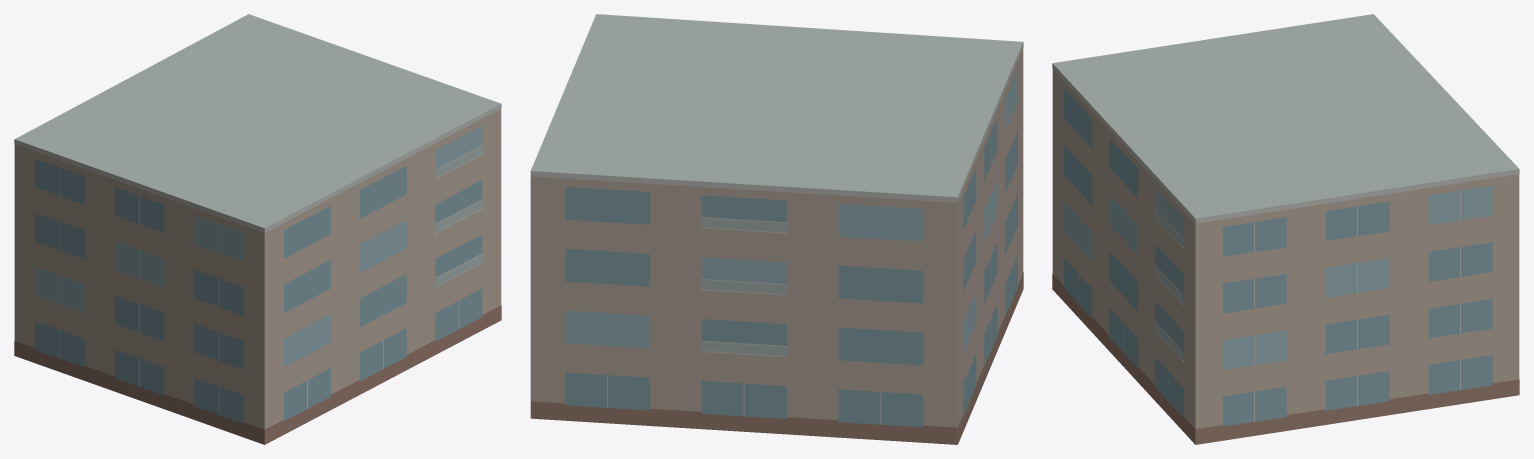
Rendered from survey-upis-32488694.glb.
3 views of the same model, side by side, from view 1: azimuth 30°, elevation 25°; view 2: azimuth 150°, elevation 25°; view 3: azimuth 270°, elevation 25° (orthographic). The views are drawn at different scales.
Parts seen in each view (by area): view 1: survey-upis-32488694.tmp; view 2: survey-upis-32488694.tmp; view 3: survey-upis-32488694.tmp.
Boxes of the visible parts, bbox=[...] form: survey-upis-32488694.tmp: bbox=[14, 14, 501, 444]; survey-upis-32488694.tmp: bbox=[530, 14, 1023, 444]; survey-upis-32488694.tmp: bbox=[1052, 14, 1519, 444].
Size of the model in its own units: 21.35 by 11 by 20.59.
